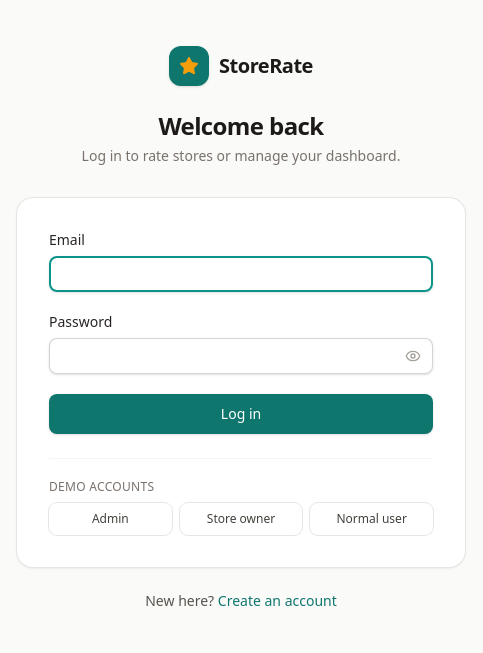
Test case: LoginPage › shows the server's message for bad credentials
The image size is (483, 653).
Type "someone@example.com" into the field labelled "Email" at coordinates (241, 274), box 49,256 -> 433,292
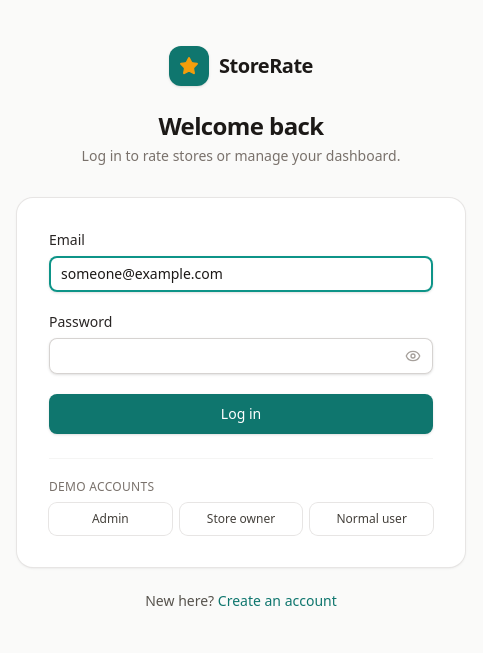
Type "Wrong@Pass1" into the password field labelled "Password" at coordinates (241, 356), box 49,338 -> 433,374
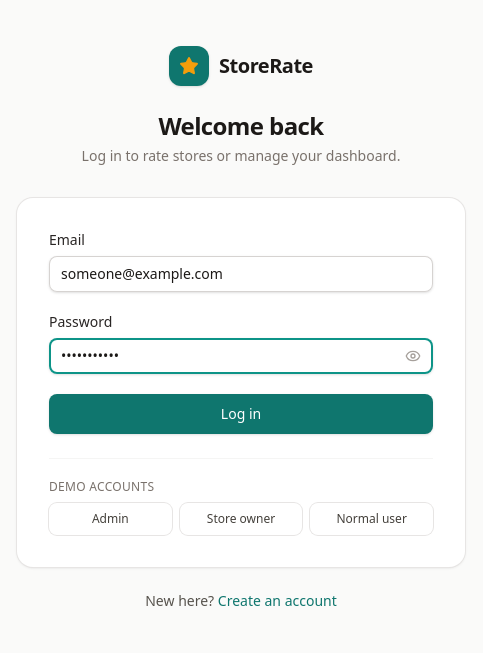
Click the button "Log in" at coordinates (241, 414), box 49,394 -> 433,434
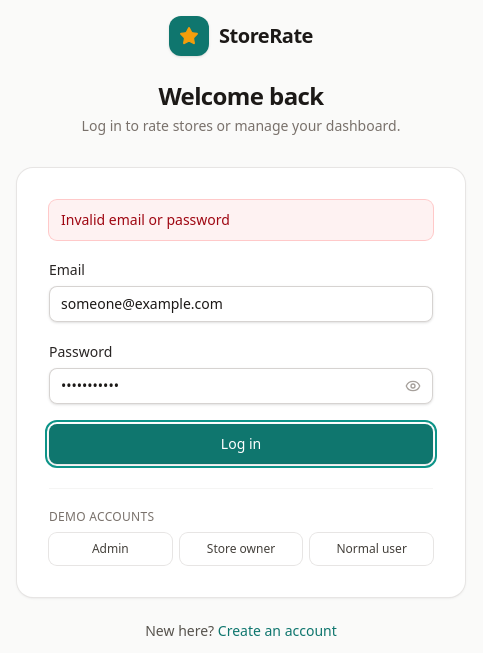
Expected: the message reads "Invalid email or password", 61,210 -> 230,228
